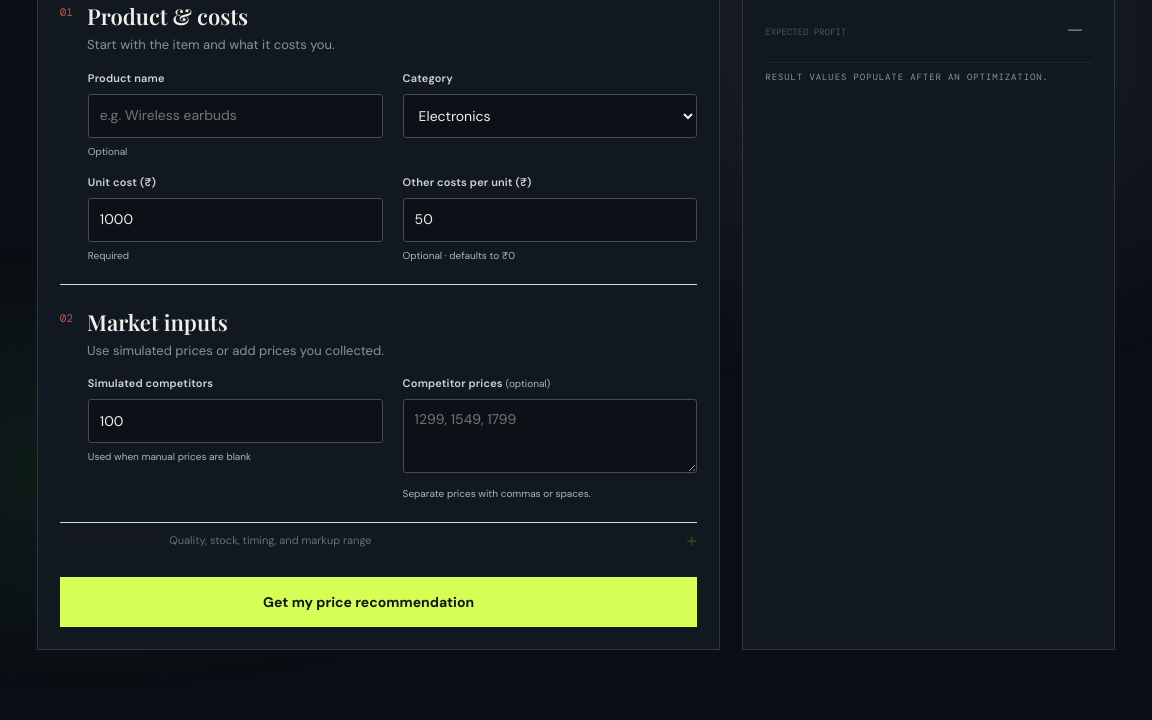
PriceOptimizer › renders backend validation messages next to the matching field
(page scrolled)
Step 1. Click the button "Get my price recommendation" → {"x": 379, "y": 602}, box [60,577,697,627]
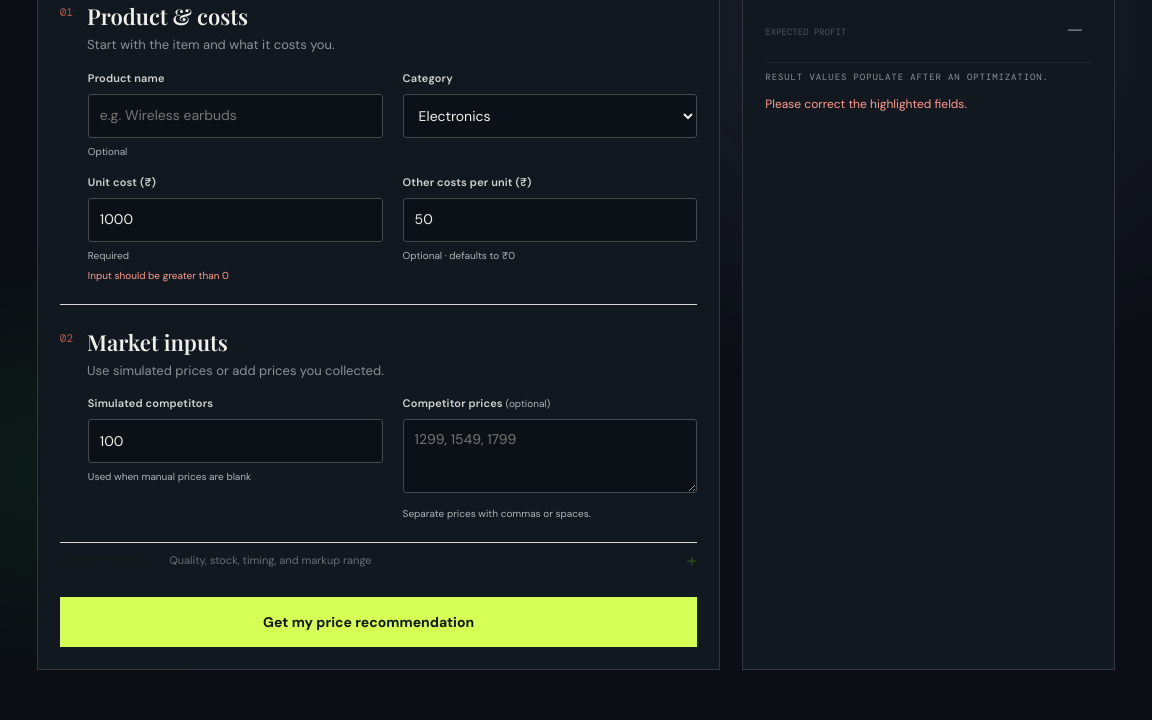
Check: the text "Input should be greater than 0" is shown, box [88,268,229,282]
